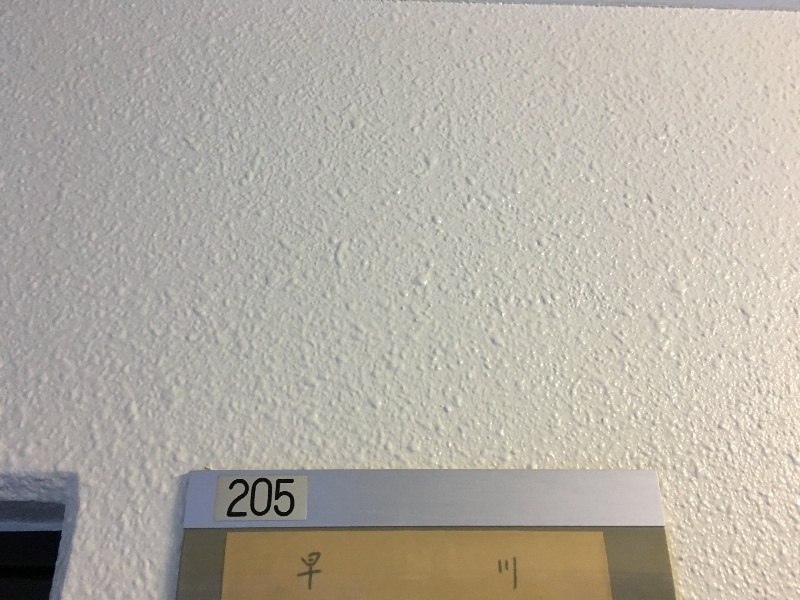text: (305, 546, 320, 597), (321, 546, 336, 597), (337, 546, 352, 597), (353, 546, 368, 597), (369, 546, 384, 597), (385, 546, 400, 597), (401, 546, 416, 597), (417, 546, 432, 597), (433, 546, 448, 597), (449, 546, 464, 597), (465, 546, 480, 597), (481, 546, 496, 597), (497, 546, 512, 597), (225, 477, 240, 523), (241, 477, 256, 523), (257, 477, 272, 523), (273, 477, 288, 523), (292, 546, 304, 597), (513, 546, 524, 597), (289, 477, 300, 523)
